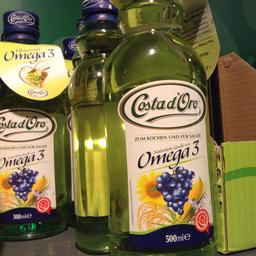oil: (97, 0, 216, 255), (0, 9, 70, 241)
